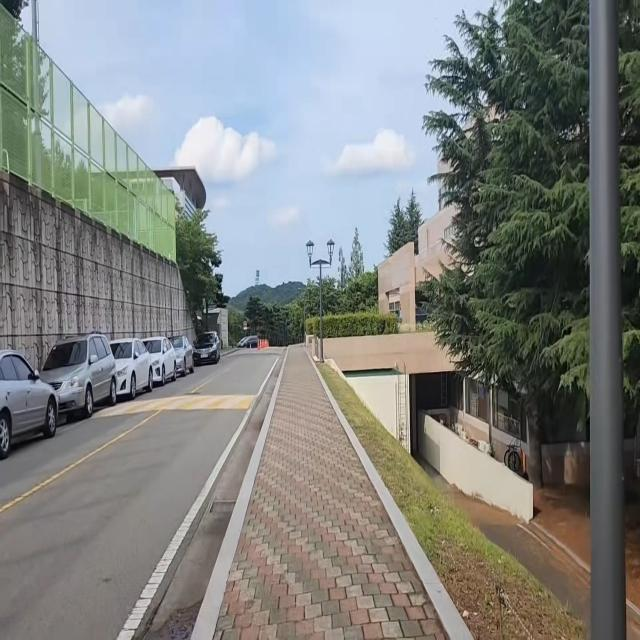obstacle: (586, 0, 629, 640), (40, 329, 224, 433), (0, 347, 60, 459)
road: (0, 345, 286, 640)
sidewalk: (193, 347, 472, 640)
